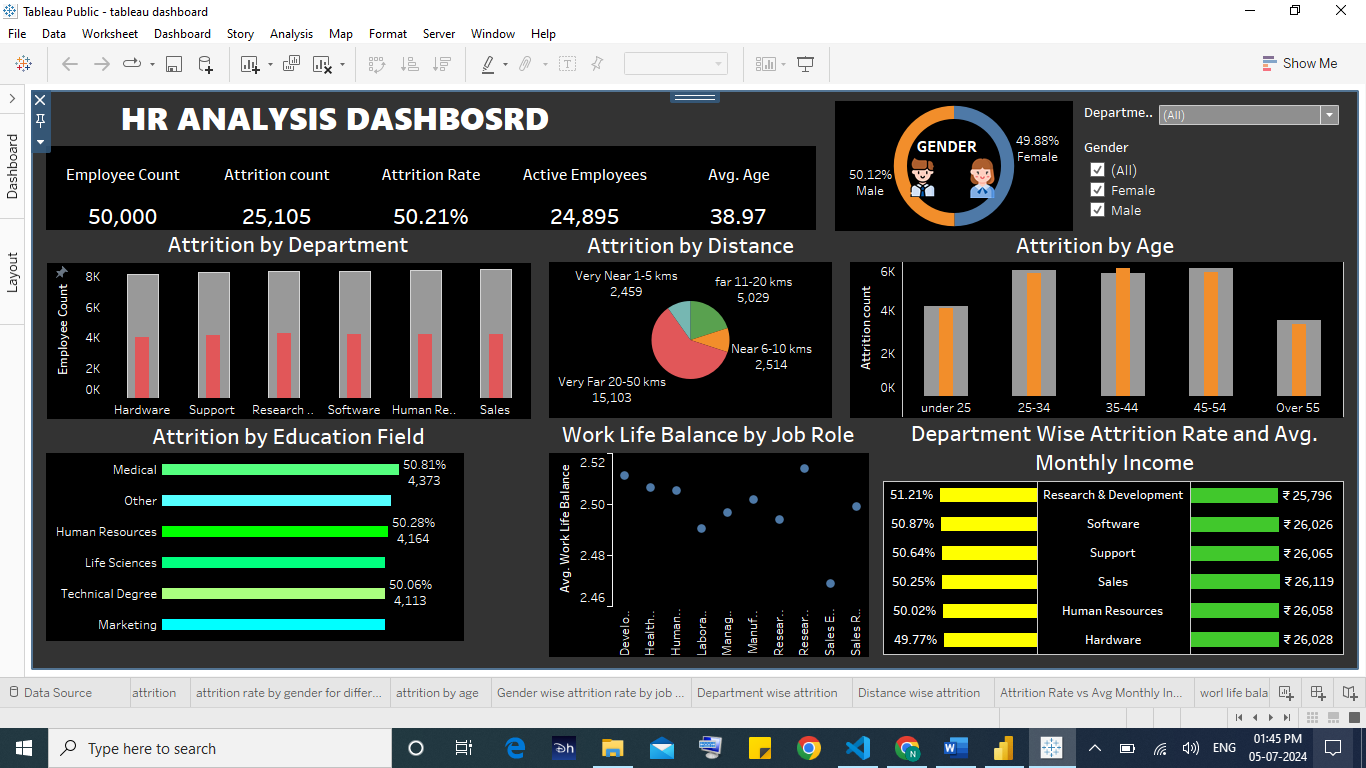

What the dashboard file says about the page in this screenshot:
{"tool":"tableau","page":{"name":"Dashboard 1","canvas":[1000,1000],"units":"permille","ordinal":0},"visuals":[{"type":"worksheet","title":"gender","mark":"Pie","rows":["Calculation_552816922583490564","Calculation_552816922583490564"],"box":[604.3,28.7,177.5,219.6]},{"type":"text","box":[69.3,30.4,430.3,50.7]},{"type":"filter","title":"KPI","param":"[federated.1kcs32g1dha2kt11tsfhc07x3scb].[none:Department:nk]","box":[790.5,30.4,192.2,57.4]},{"type":"text","box":[663.2,82.8,61.5,45.6]},{"type":"filter","title":"KPI","param":"[federated.1kcs32g1dha2kt11tsfhc07x3scb].[none:Gender:nk]","box":[790.5,91.2,138.5,145.3]},{"type":"worksheet","title":"KPI","mark":"Automatic","box":[15.6,104.7,574.9,141.9]},{"type":"image","param":"Image/male.png","box":[654.6,121.6,34.6,69.3]},{"type":"image","param":"Image/female.png","box":[699.6,125,32,67.6]},{"type":"text","box":[15.6,244.9,361,50.7]},{"type":"text","box":[391.3,246.6,211.3,50.7]},{"type":"text","box":[613.9,246.6,368.8,50.7]},{"type":"worksheet","title":"Distance wise attrition","mark":"Pie","box":[391.3,300.7,211.3,263.5]},{"type":"worksheet","title":"attrition by age","mark":"Bar","rows":["Calculation_552816922576838656","Calculation_552816922578907139"],"box":[615.6,300.7,368.8,263.5]},{"type":"worksheet","title":"Department wise attrition","mark":"Bar","rows":["EmployeeCount","Calculation_552816922576838656"],"cols":["Department"],"box":[16.4,302.4,361,263.5]},{"type":"text","box":[640.7,562.5,343.7,101.4]},{"type":"text","box":[377.5,565.9,264.1,50.7]},{"type":"text","box":[15.6,569.3,361.9,50.7]},{"type":"worksheet","title":"Gender wise attrition rate by job role","mark":"Automatic","rows":["EducationField"],"cols":["Calculation_552816922576838656"],"box":[15.8,623.3,362.4,349.7]},{"type":"worksheet","title":"worl life balance by job role","mark":"Circle","rows":["WorkLifeBalance"],"cols":["JobRole"],"box":[391.3,623.3,238.8,346.3]},{"type":"worksheet","title":"Attrition Rate vs Avg Monthly Income","mark":"Automatic","rows":["Department"],"cols":["Calculation_552816922577788929","Calculation_552816922583490564","MonthlyIncome"],"box":[640.3,670.6,344.8,293.9]}]}

Visuals, with their boxes on the dashboard's canvas, which has no fixed pixel size, in thousandths of its width and height (x1, y1, x2, y2). These are canvas units, not pixel positions in the 1366x768 screenshot, which may show the page scaled, cropped or inside an application window:
"gender" worksheet (Pie marks): [604,29,782,248]
text: [69,30,500,81]
"KPI" filter: [790,30,983,88]
text: [663,83,725,128]
"KPI" filter: [790,91,929,236]
"KPI" worksheet: [16,105,590,247]
image: [655,122,689,191]
image: [700,125,732,193]
text: [16,245,377,296]
text: [391,247,603,297]
text: [614,247,983,297]
"Distance wise attrition" worksheet (Pie marks): [391,301,603,564]
"attrition by age" worksheet (Bar marks): [616,301,984,564]
"Department wise attrition" worksheet (Bar marks): [16,302,377,566]
text: [641,562,984,664]
text: [378,566,642,617]
text: [16,569,378,620]
"Gender wise attrition rate by job role" worksheet: [16,623,378,973]
"worl life balance by job role" worksheet (Circle marks): [391,623,630,970]
"Attrition Rate vs Avg Monthly Income" worksheet: [640,671,985,964]
